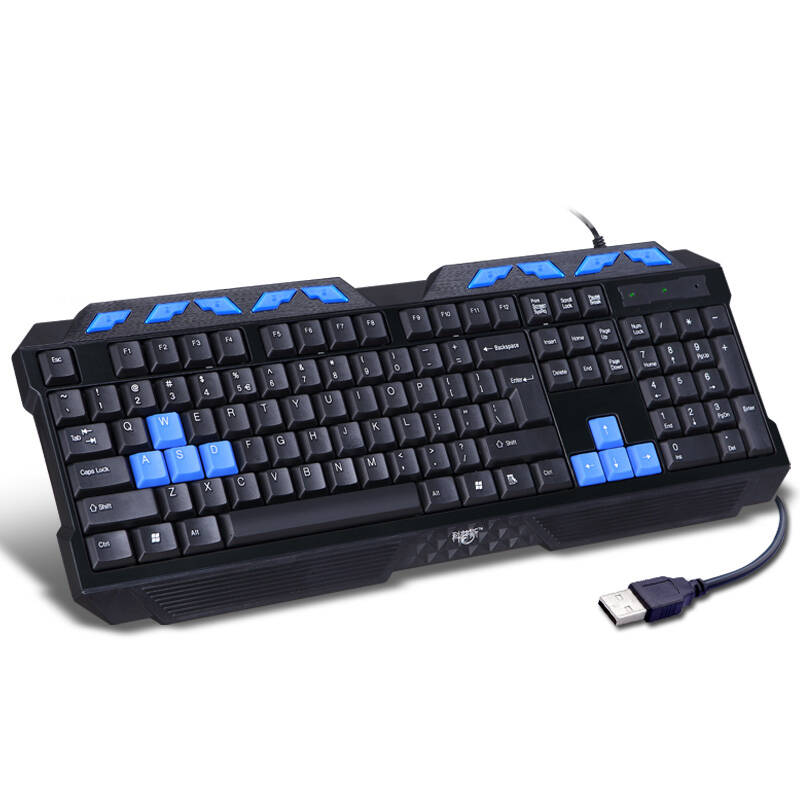keyboard: (10, 239, 789, 623)
